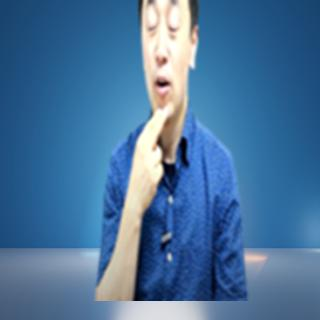DHAVE: (116, 104, 177, 217)
